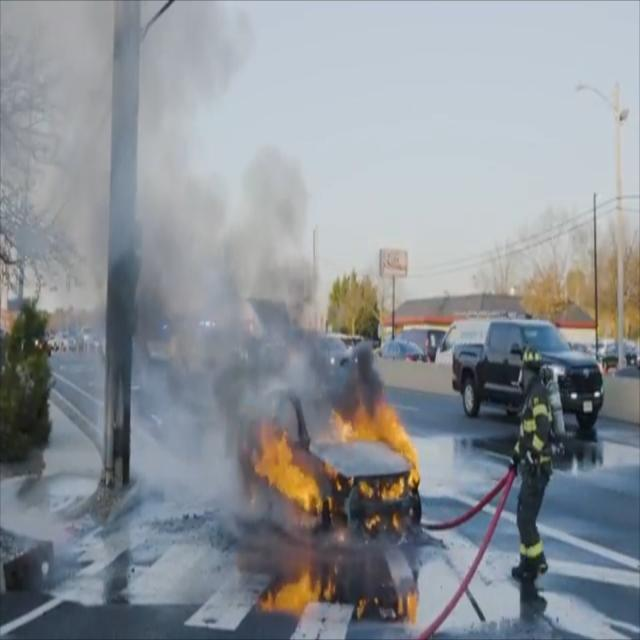fire: (240, 374, 424, 540), (270, 572, 416, 624)
